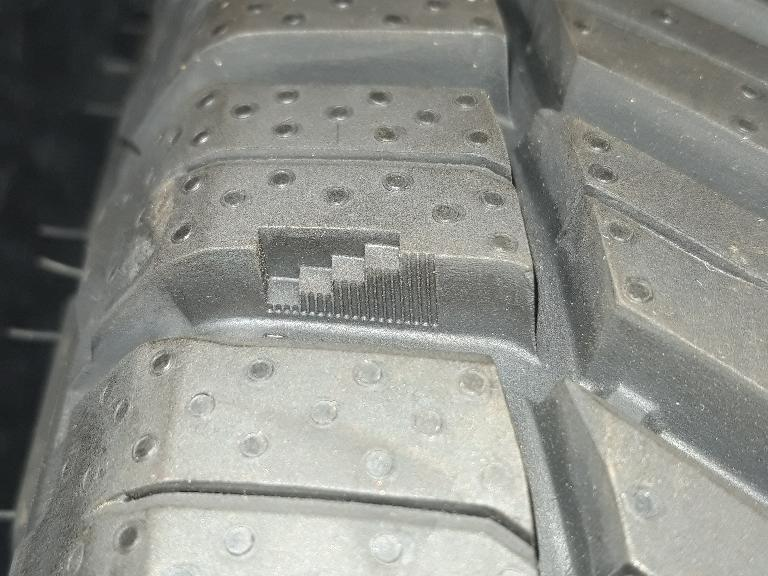temoin:100: (245, 218, 445, 335)
